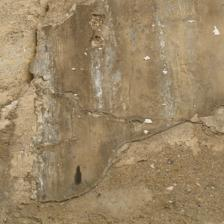Crack: (0, 0, 134, 85), (74, 4, 114, 106), (28, 46, 77, 121)
